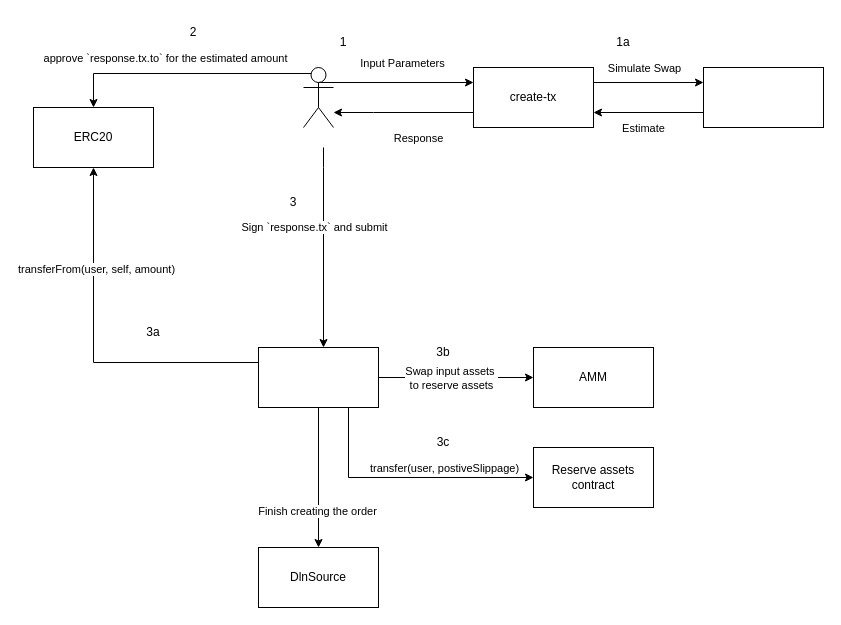
The diagram is 841 pixels wide and 625 high, and some of its shapes have lost their labels. The shapes that lost their labels are listed below. From the top down, each one's centre as x and y in pixels, then its label:
At pixel 318 97: "Actor".
At pixel 763 97: "DeFi aggregators".
At pixel 318 377: "DLN Smart Contracts".
